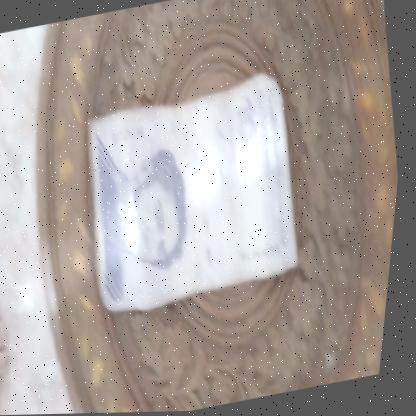vef_front: (69, 71, 324, 319)
